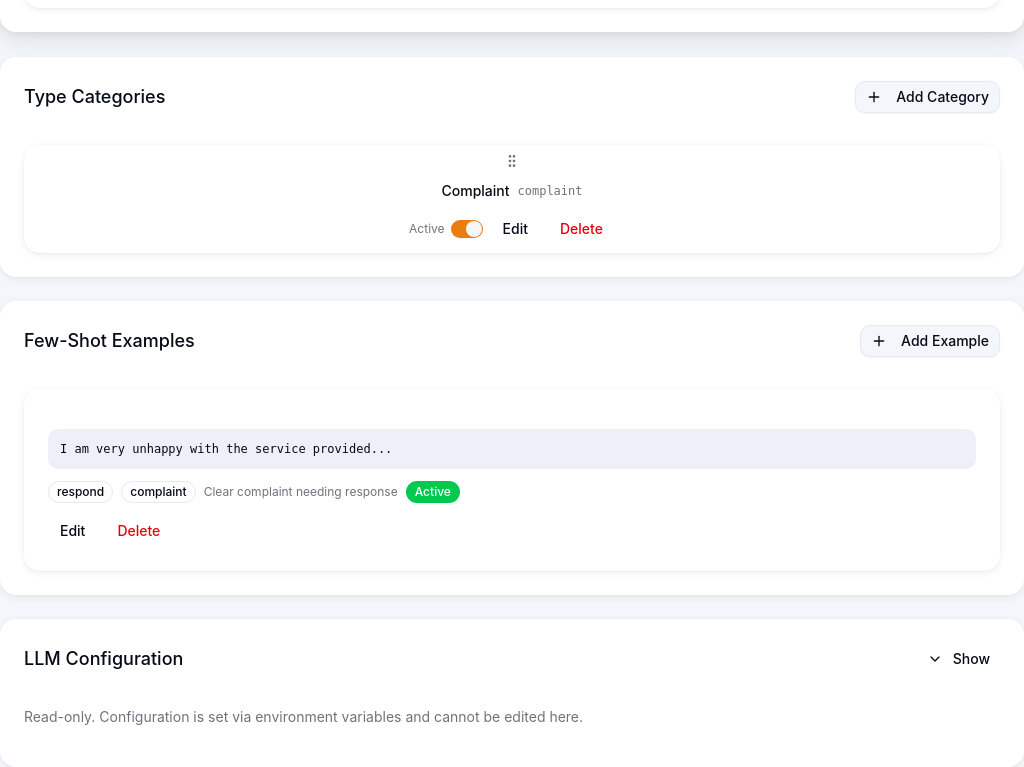
ClassificationConfigPage › clicking Hide after Show collapses the LLM section again
The image size is (1024, 767).
(page scrolled)
Click the button "Show".
click(958, 659)  # box top-left (917, 643), bottom-right (1000, 675)
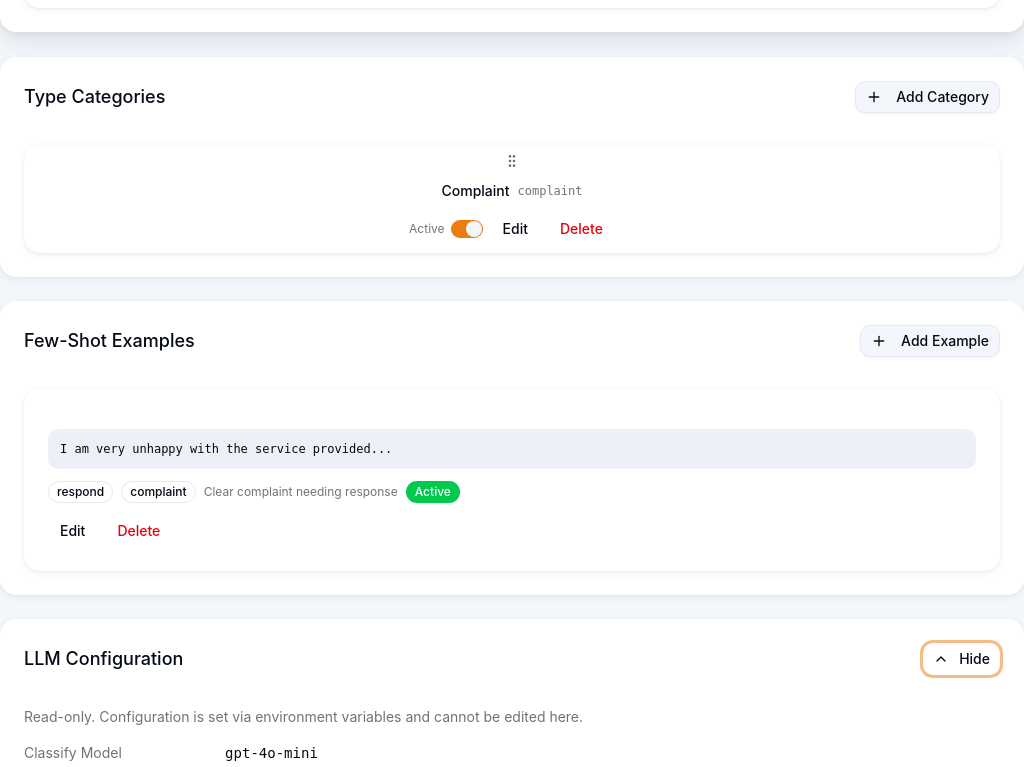
Check: the text "gpt-4o-mini" is shown, box top-left (225, 745), bottom-right (318, 761)
Click the button "Hide".
click(962, 659)  # box top-left (923, 643), bottom-right (1000, 675)
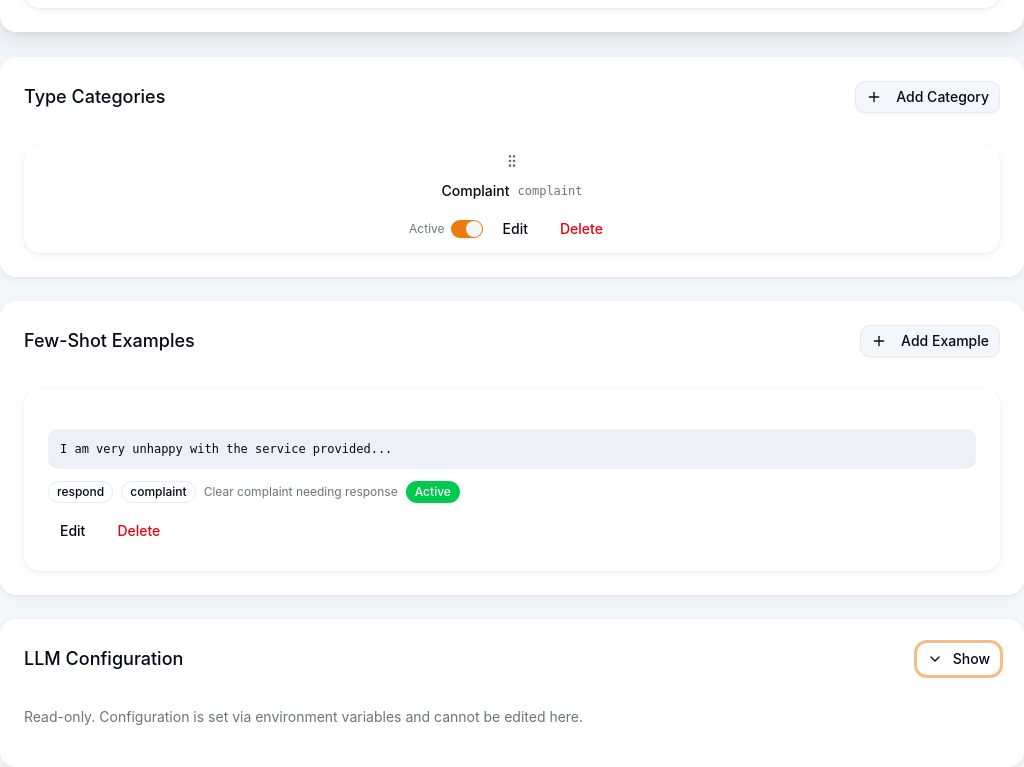
Check: the text "gpt-4o-mini" is gone
